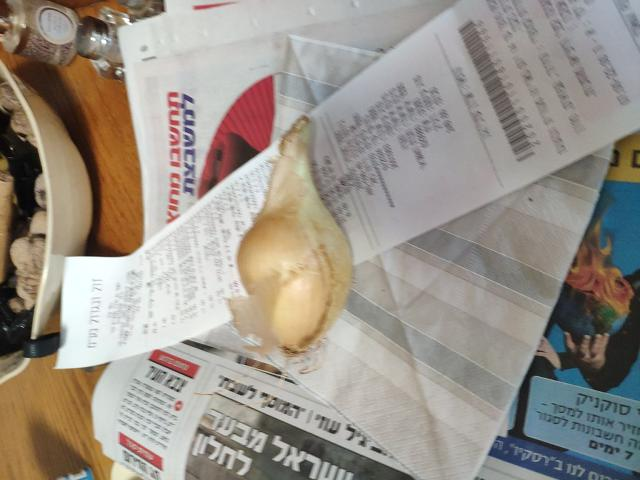onion: (232, 159, 347, 357)
